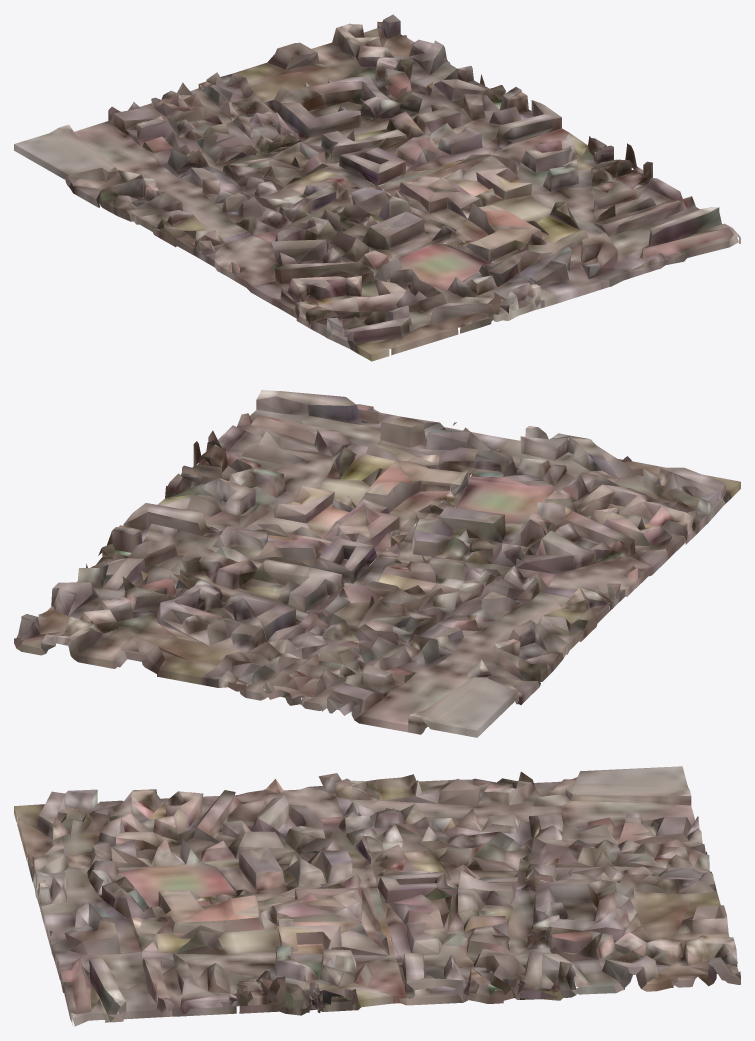
3 views of the same model, one above another, from view 1: azimuth 30°, elevation 25°; view 2: azimuth 150°, elevation 25°; view 3: azimuth 270°, elevation 25° (orthographic). The views are drawn at different scales.
Parts seen in each view (by area): view 1: Mesh_0; view 2: Mesh_0; view 3: Mesh_0.
Part boxes in pixels (x1,y1,x2,y2): Mesh_0: [14, 14, 740, 361]; Mesh_0: [14, 390, 740, 737]; Mesh_0: [14, 766, 740, 1026].
Size of the model in its own units: 532 by 44.91 by 659.
Materials: 2 (2 with a texture image).
